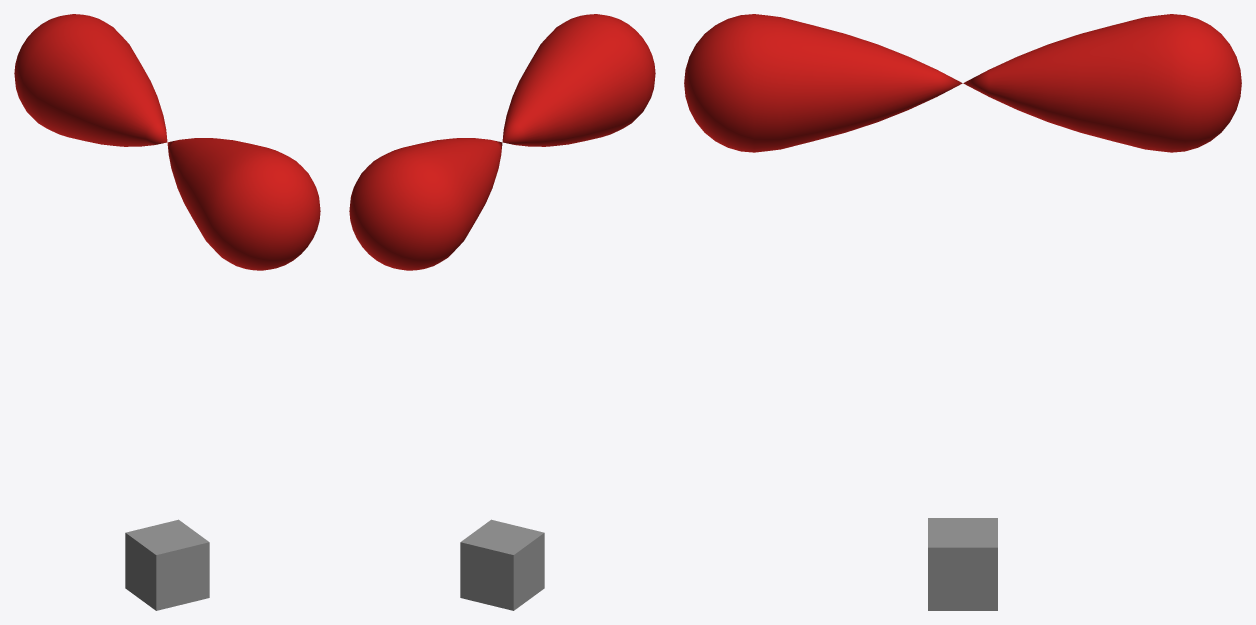
Rendered from newScene.obj.
3 renders of one model, left to right at view 1: azimuth 30°, elevation 25°; view 2: azimuth 150°, elevation 25°; view 3: azimuth 270°, elevation 25°, orthographic. The views are drawn at different scales.
Visible parts, largest first — view 1: Sphere, Sphere.001_Sphere.012, cube; view 2: Sphere, Sphere.001_Sphere.012, cube; view 3: Sphere, Sphere.001_Sphere.012, cube.
Part boxes in pixels (left/top/right/bottom): Sphere: left=167, top=138, right=320, bottom=270; Sphere.001_Sphere.012: left=14, top=14, right=167, bottom=146; cube: left=125, top=519, right=209, bottom=610; Sphere: left=502, top=14, right=655, bottom=146; Sphere.001_Sphere.012: left=349, top=138, right=502, bottom=270; cube: left=460, top=519, right=544, bottom=610; Sphere: left=684, top=14, right=962, bottom=152; Sphere.001_Sphere.012: left=963, top=14, right=1241, bottom=152; cube: left=928, top=518, right=997, bottom=610.
Size of the model in its own units: 1.98 by 9.07 by 7.96.
